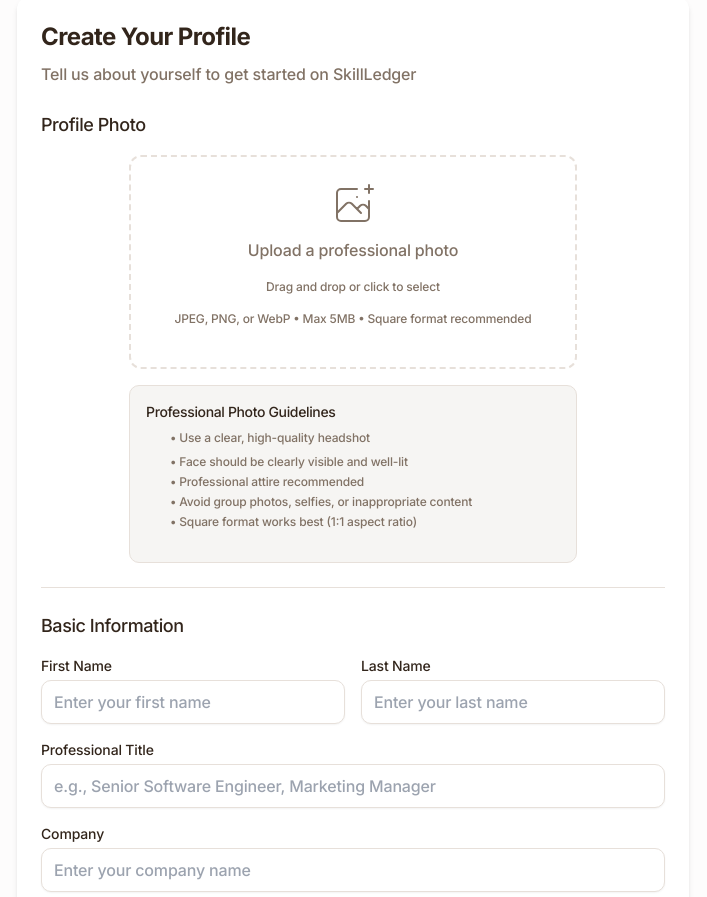
Test: ProfileCreationForm › shows profile completion indicator when required fields are filled
Note: Fill required fields
Type "John" into the field labelled "First Name" at coordinates (193, 702), box top-left (41, 680), bottom-right (345, 724)
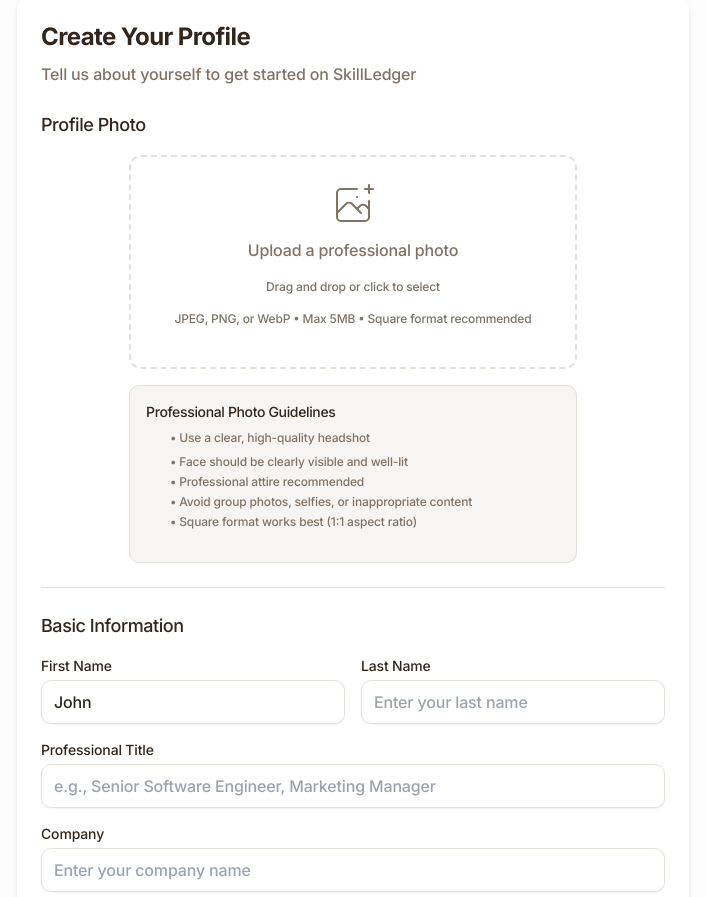
Type "Doe" into the field labelled "Last Name" at coordinates (513, 702), box top-left (361, 680), bottom-right (665, 724)
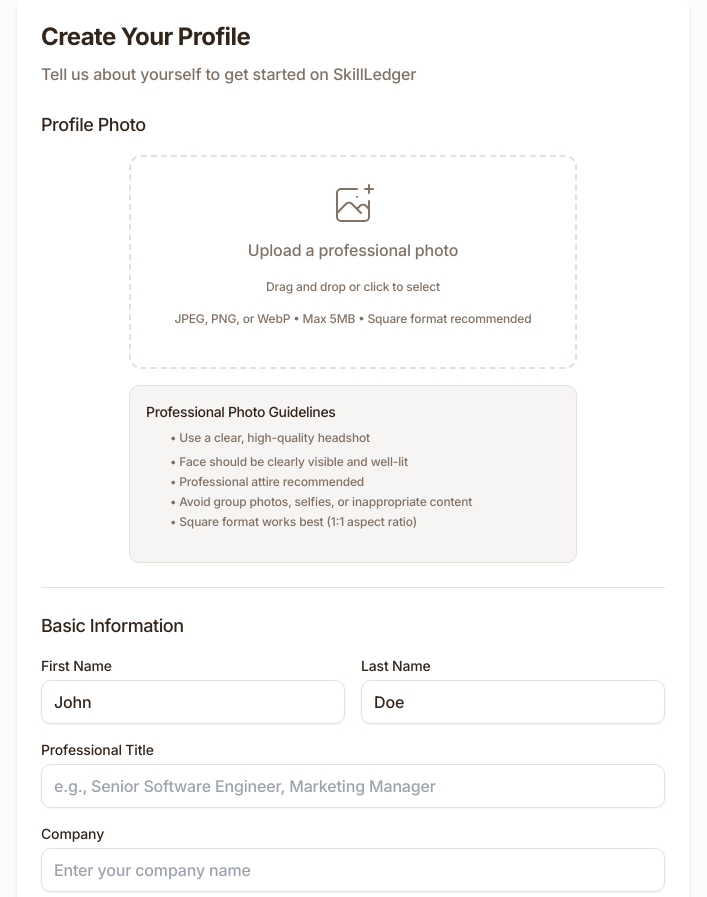
Type "Software Engineer" into the field labelled "Professional Title" at coordinates (353, 786), box top-left (41, 764), bottom-right (665, 808)
(page scrolled)
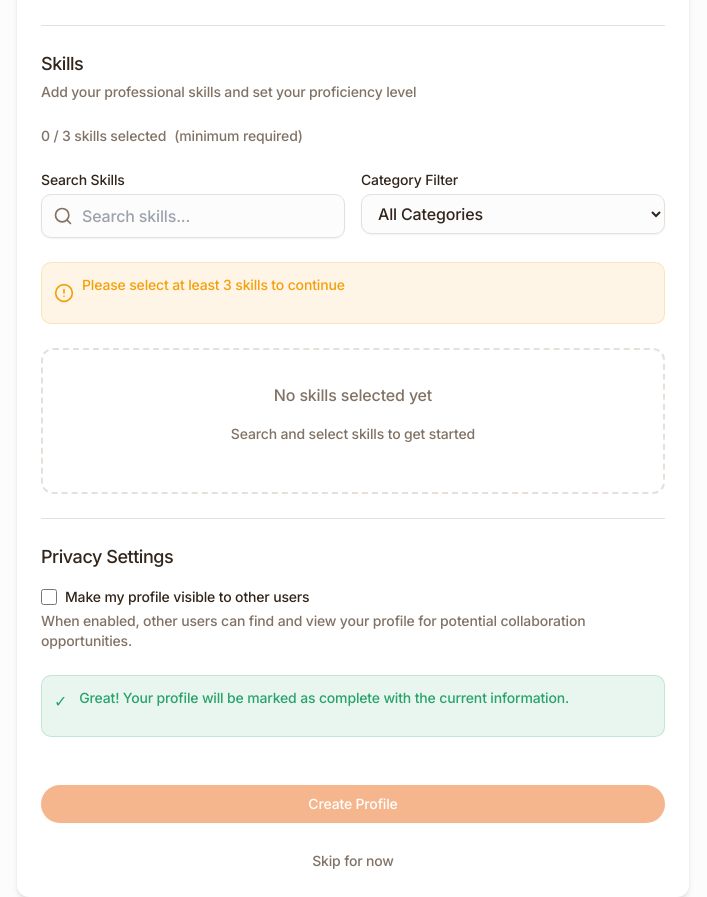
Now the text "Great! Your profile will be marked as complete" is shown, box top-left (79, 689), bottom-right (569, 706)
